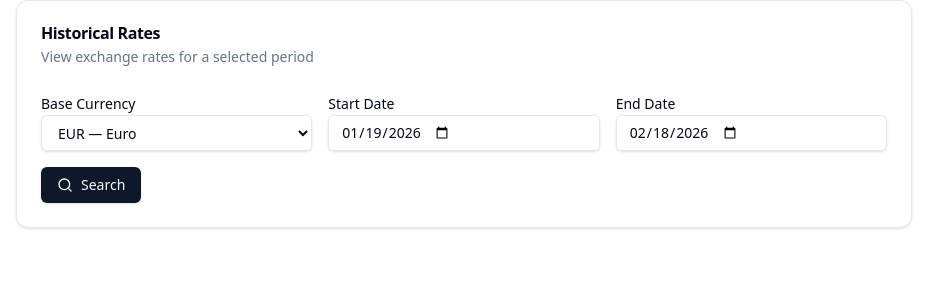
Test case: HistoricalPage › validates date range
In the date field labelled "Start Date": [464, 133] box [328, 115, 600, 151], type "2025-03-01"
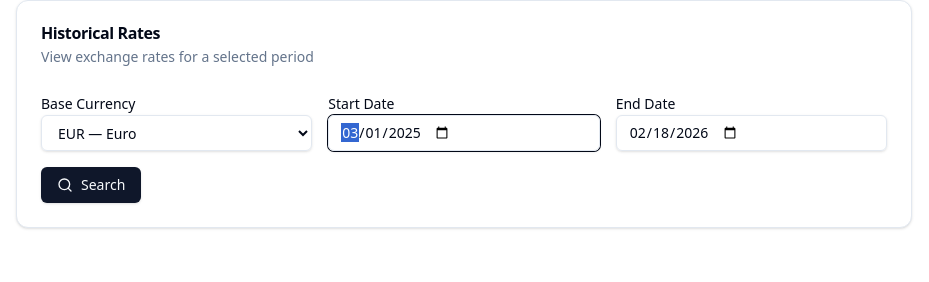
In the date field labelled "End Date": [751, 133] box [616, 115, 887, 151], type "2025-02-01"
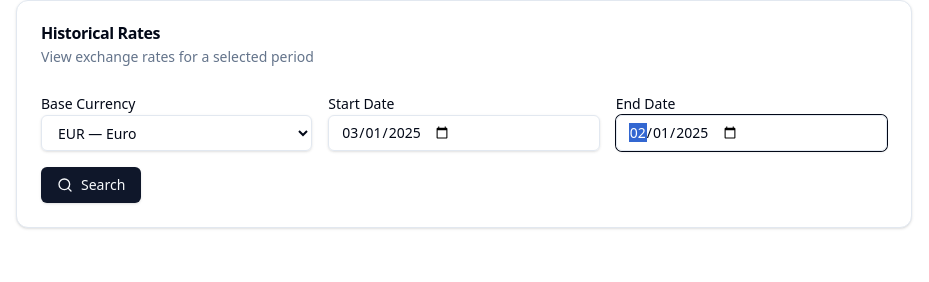
Click the button "Search": [91, 185] box [41, 167, 141, 203]
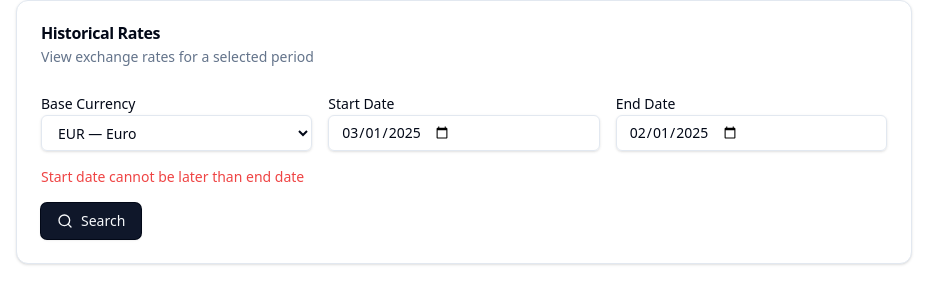
Expected: the text "Start date cannot be later than end date" is shown, [41, 167, 304, 186]
